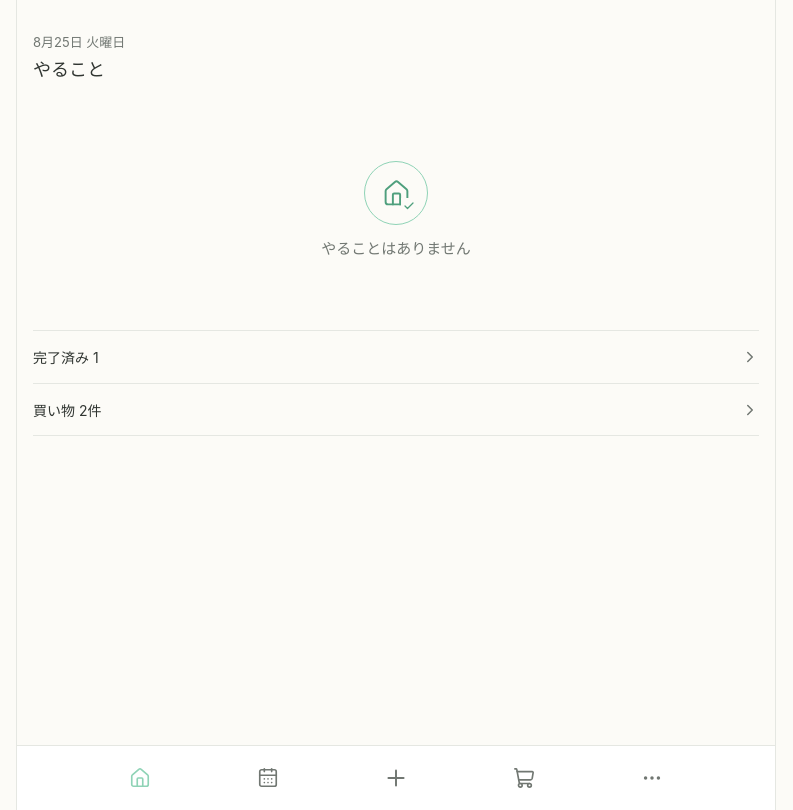
M2 Home › shows restore-only actions for inactive records
The image size is (793, 810).
What coordinates should you click on to do the following:
click the button "完了済み 1"
I would click on:
 (63, 358)
Its box is [33, 331, 759, 383].
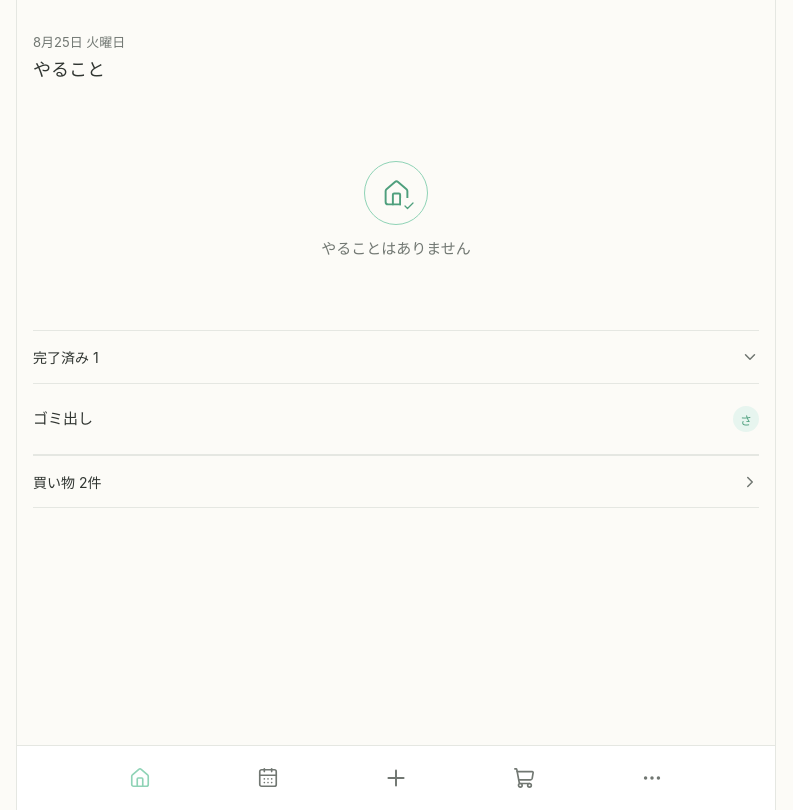
Now the button "戻す" is shown, box [695, 384, 759, 454]
